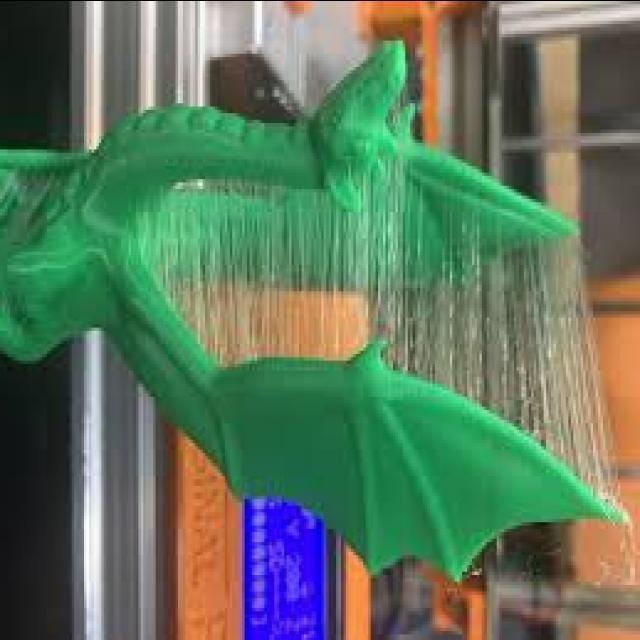stringing: (133, 148, 624, 515)
